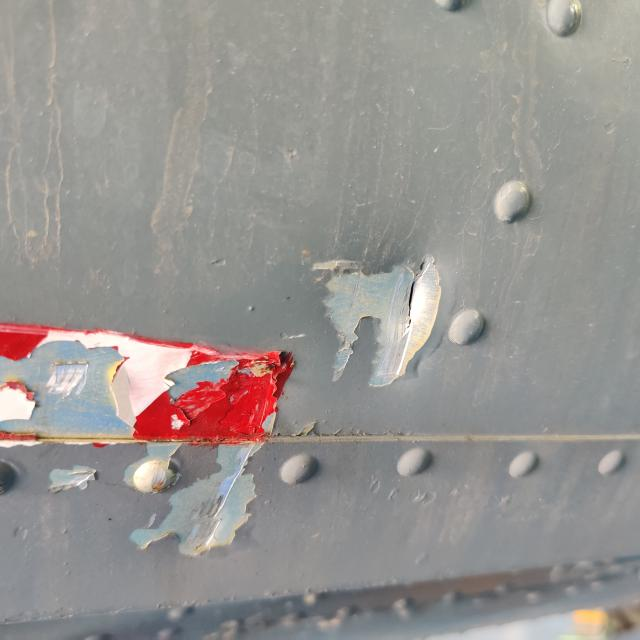crack: (383, 252, 446, 346)
paint-off: (0, 312, 302, 564), (313, 248, 448, 389)
